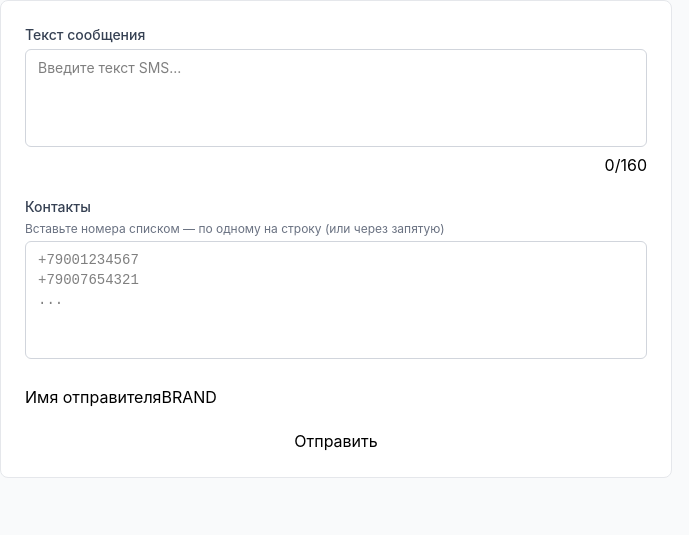
QuickSendPage (US1 — Send Single SMS) › flags invalid phone numbers with a specific message
Check: the field labelled "Имя отправителя" is shown, box [162,385,410,409]
Type "Hello" into the text box labelled "Текст сообщения" at (336,98), box [25,49,647,147]
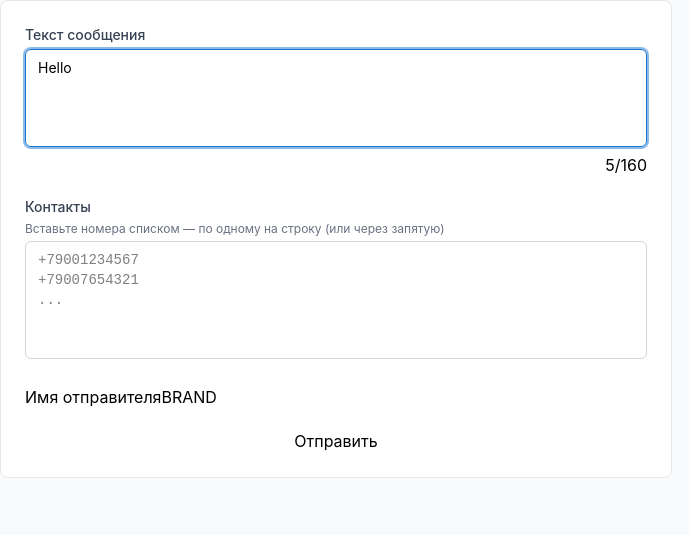
Type "bad-phone" into the text box labelled "Контакты" at (336,300), box [25,241,647,359]
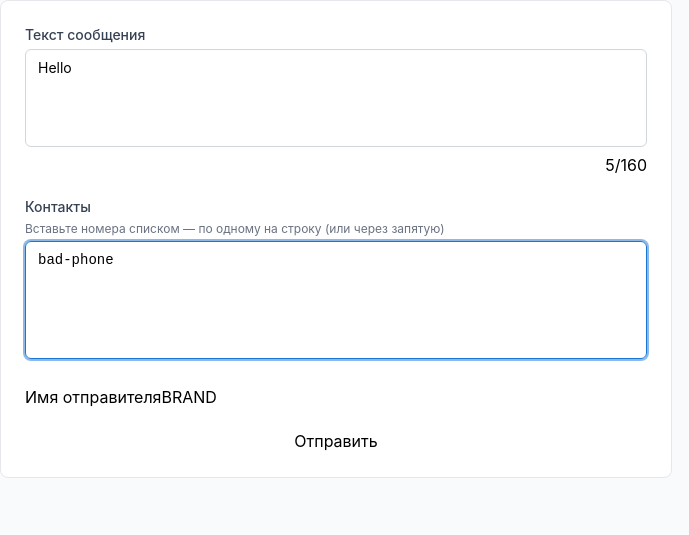
Click the button "Отправить" at (336,441), box [25,429,647,453]
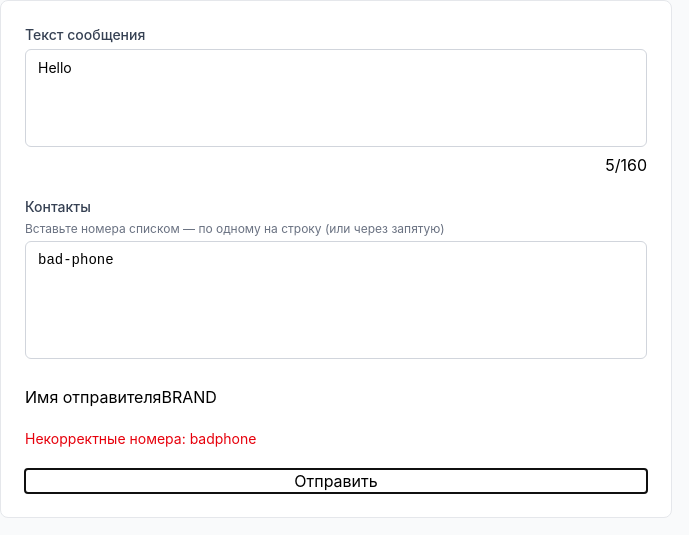
Check: the message shows "Некорректные номера", box [25,430,256,447]
